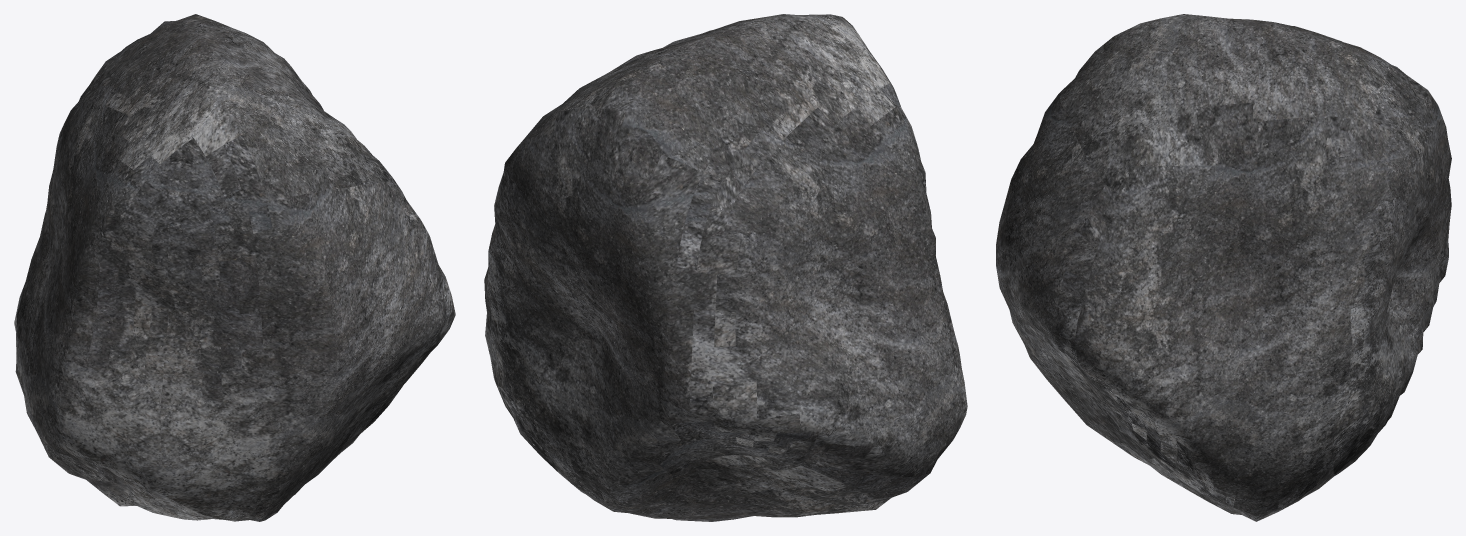
File: asteroid.glb
The picture shows the model from 3 angles, left to right: view 1: azimuth 30°, elevation 25°; view 2: azimuth 150°, elevation 25°; view 3: azimuth 270°, elevation 25°; orthographic projection. The views are drawn at different scales.
Visible parts, largest first — view 1: rock; view 2: rock; view 3: rock.
Part boxes in pixels (left/top/right/bottom): rock: left=14, top=14, right=455, bottom=521; rock: left=484, top=14, right=967, bottom=521; rock: left=996, top=14, right=1451, bottom=521.
Size of the model in its own units: 1.27 by 1.49 by 1.33.
1 material, 1 textured.
